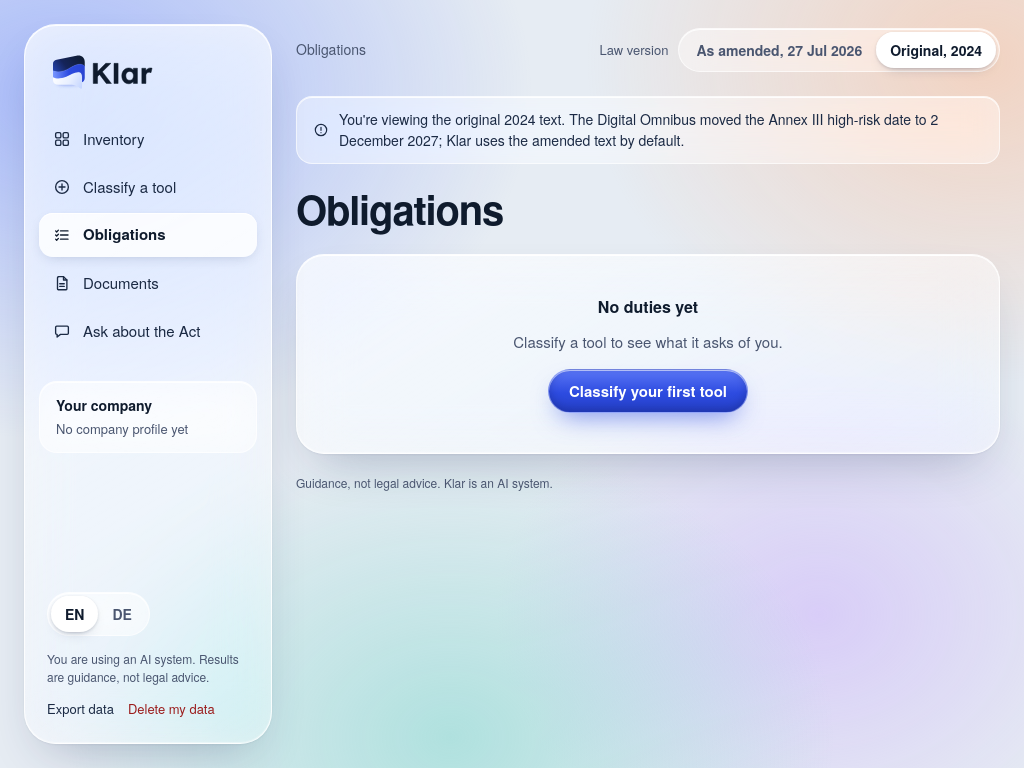
Test: AppFrame law version › keeps the original text notice across a language switch (EN, DE, EN)
The image size is (1024, 768).
Expected: the heading "Obligations" is shown, left=296, top=184, right=503, bottom=234
What coordinates should you click on to do the following:
click the button "DE"
I would click on:
 (122, 614)
Its box is left=98, top=596, right=146, bottom=632.
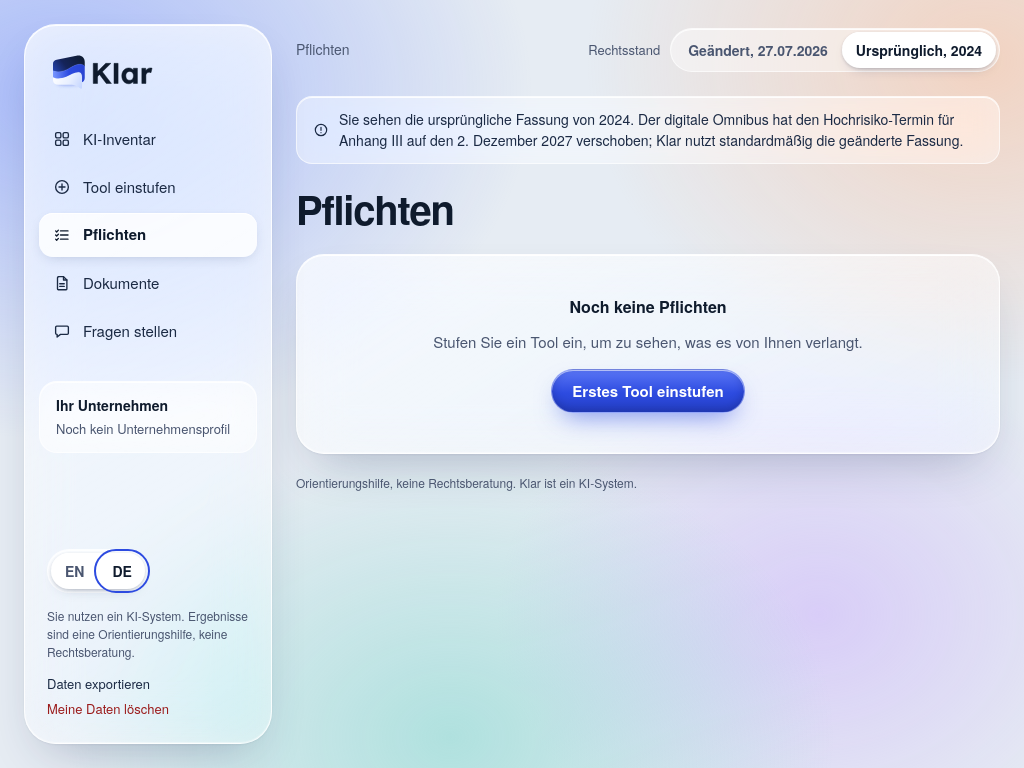
Result: the element named "Sprache" is shown at left=47, top=549, right=150, bottom=593
What coordinates should you click on to do the following:
click the button "EN"
I would click on:
 (75, 571)
Its box is left=51, top=553, right=98, bottom=589.
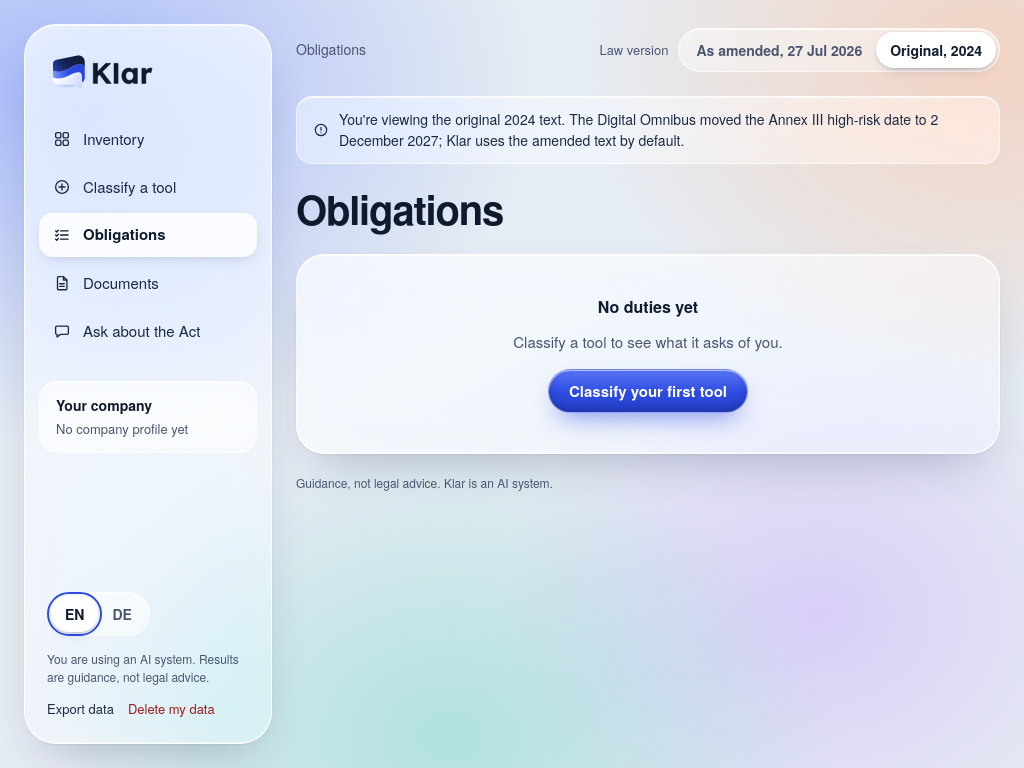
Result: the element named "Language" is shown at left=47, top=592, right=150, bottom=636
